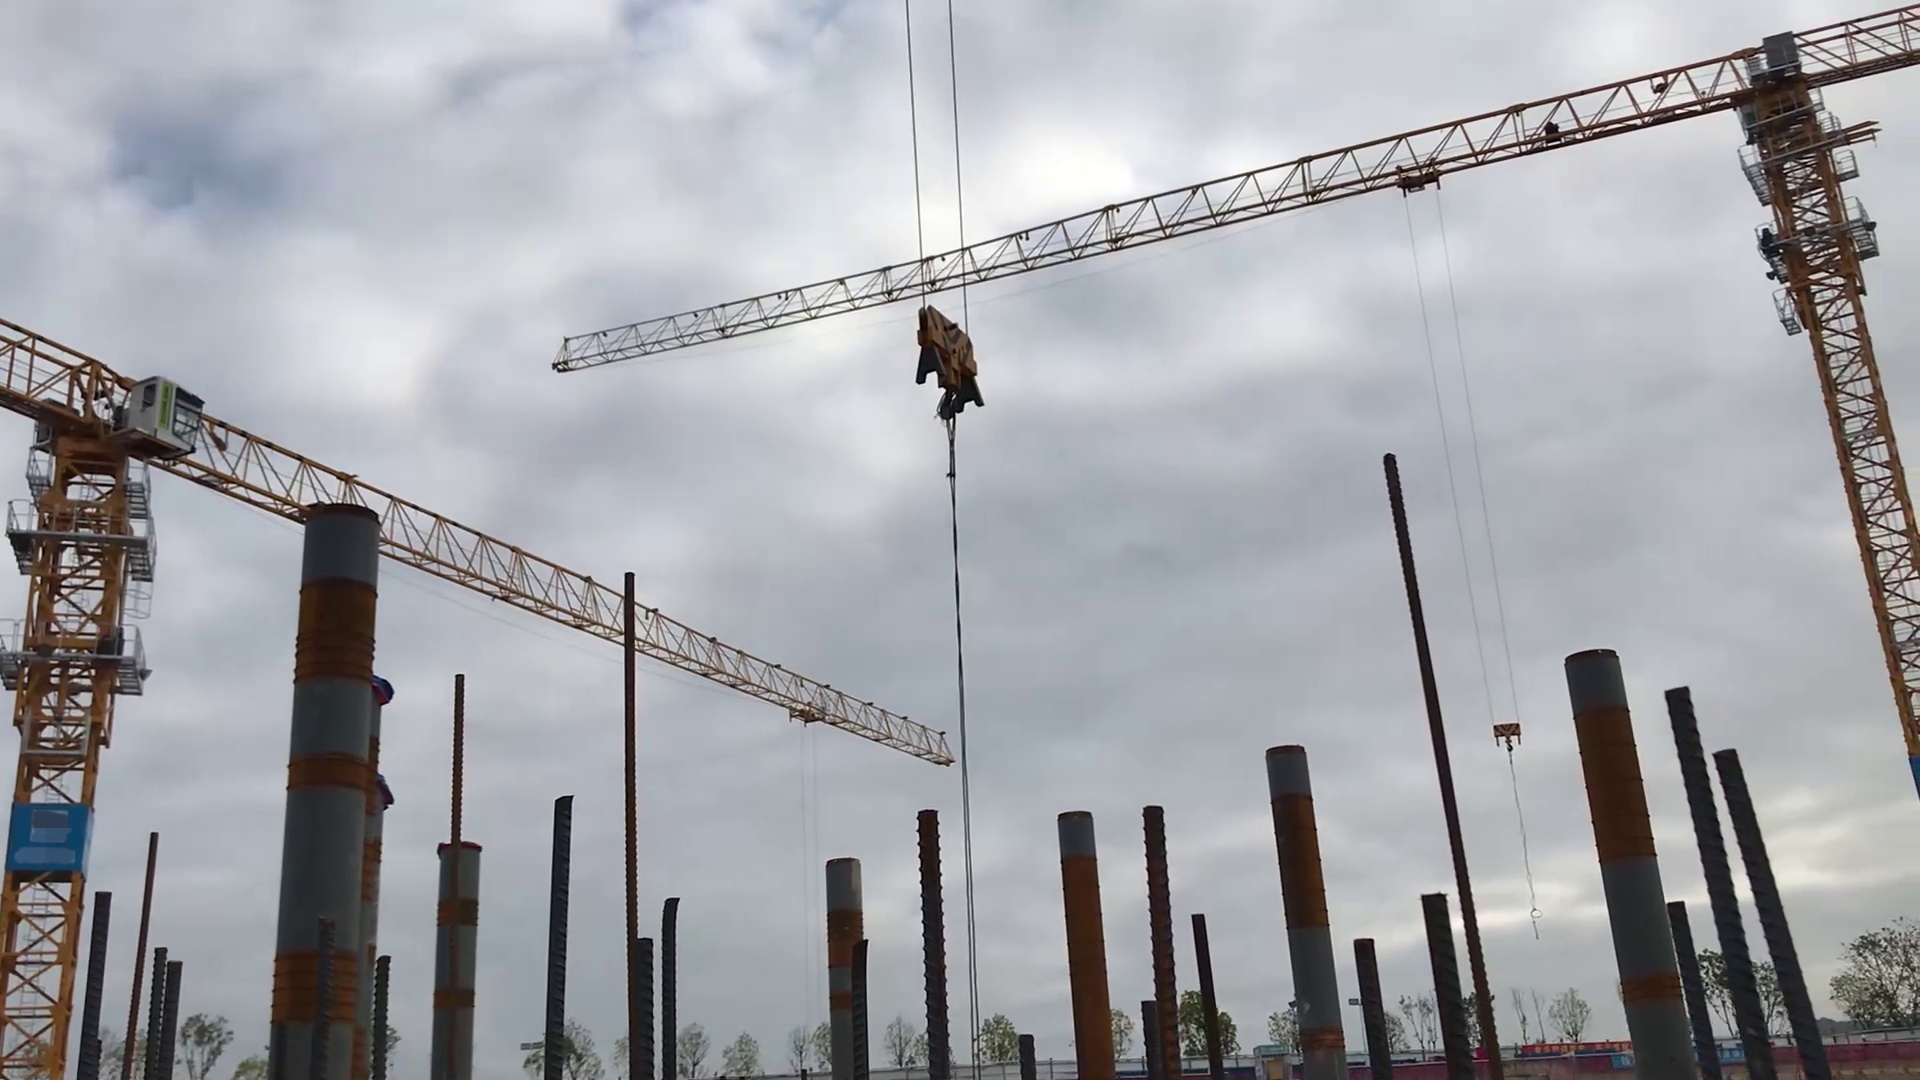fence: (1829, 1023, 1905, 1071)
hook: (909, 294, 1002, 434), (1485, 717, 1532, 760)
